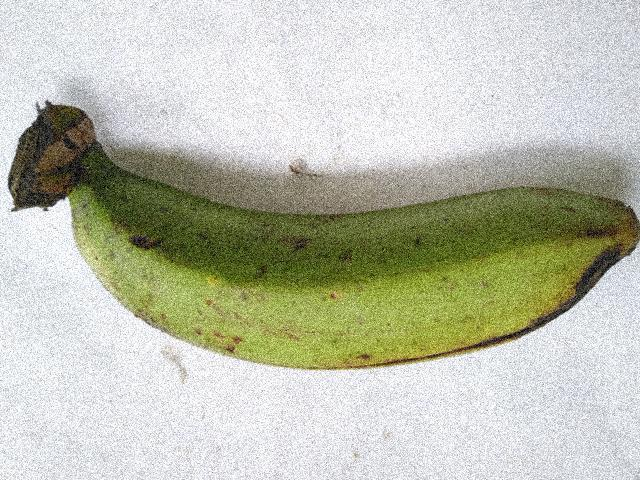unripe: (81, 152, 639, 402)
